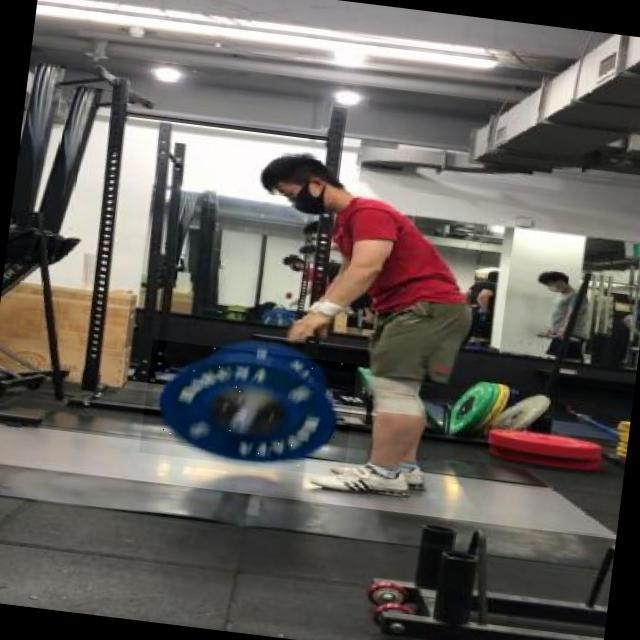barbell: (140, 340, 358, 478)
